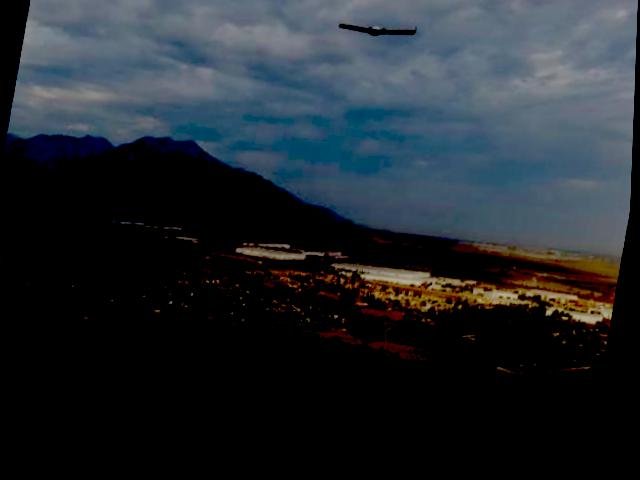iha: (334, 17, 418, 55)
